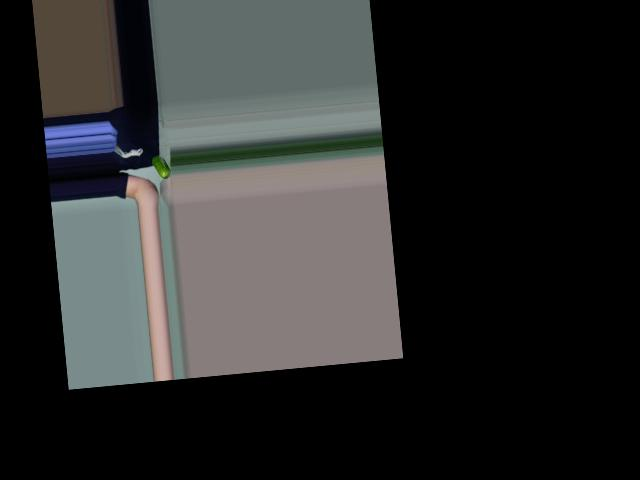cucumber: (151, 154, 171, 180)
